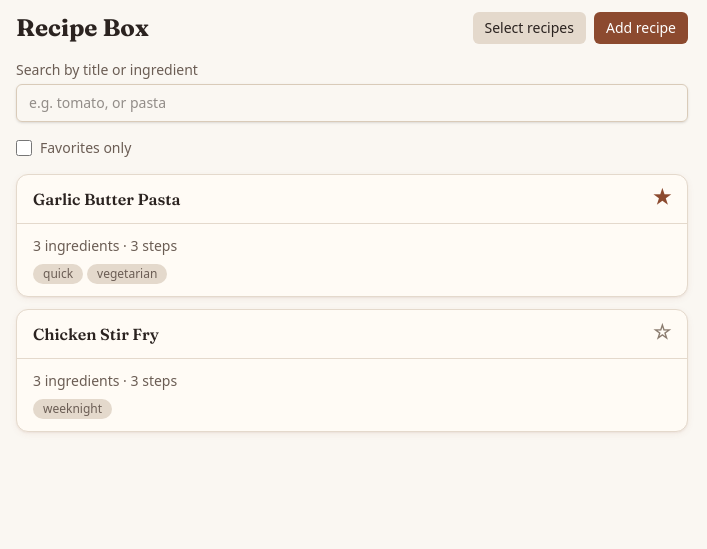
RecipeBox selection mode (TEST-153) › disables generate with an explanation when nothing is selected (AC4)
Expected: the text "Garlic Butter Pasta" is shown, top-left (33, 187), bottom-right (180, 211)
Click the button "Select recipes" at [529, 28], box top-left (472, 12), bottom-right (586, 44)
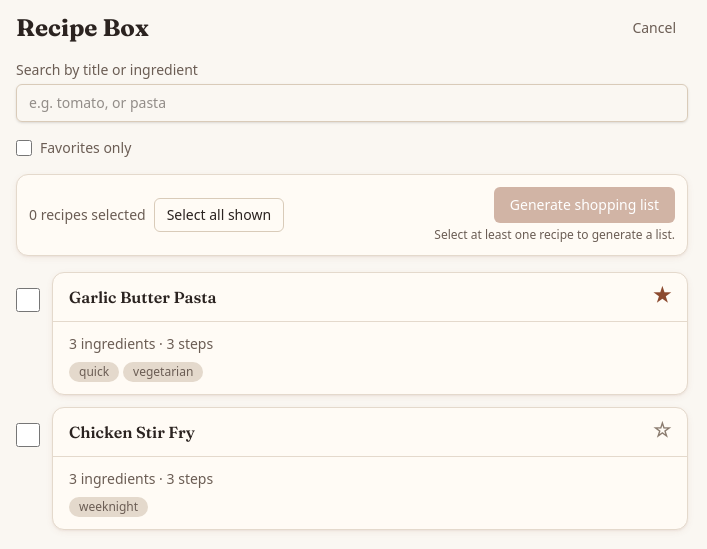
Result: the button "Generate shopping list" is disabled at top-left (494, 187), bottom-right (675, 223)
Result: the text "Select at least one recipe to generate a list." is shown at top-left (434, 227), bottom-right (675, 243)
Click the checkbox named "Garlic Butter Pasta" at [28, 300], box top-left (16, 288), bottom-right (40, 312)
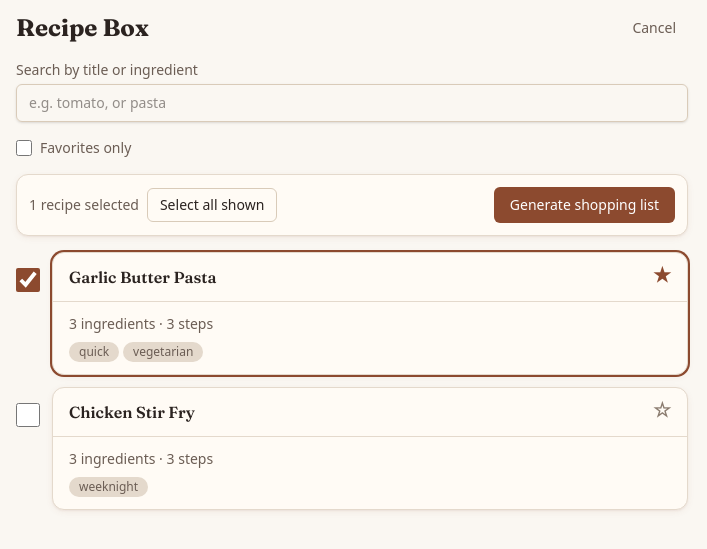
Result: the button "Generate shopping list" is enabled at top-left (494, 187), bottom-right (675, 223)
